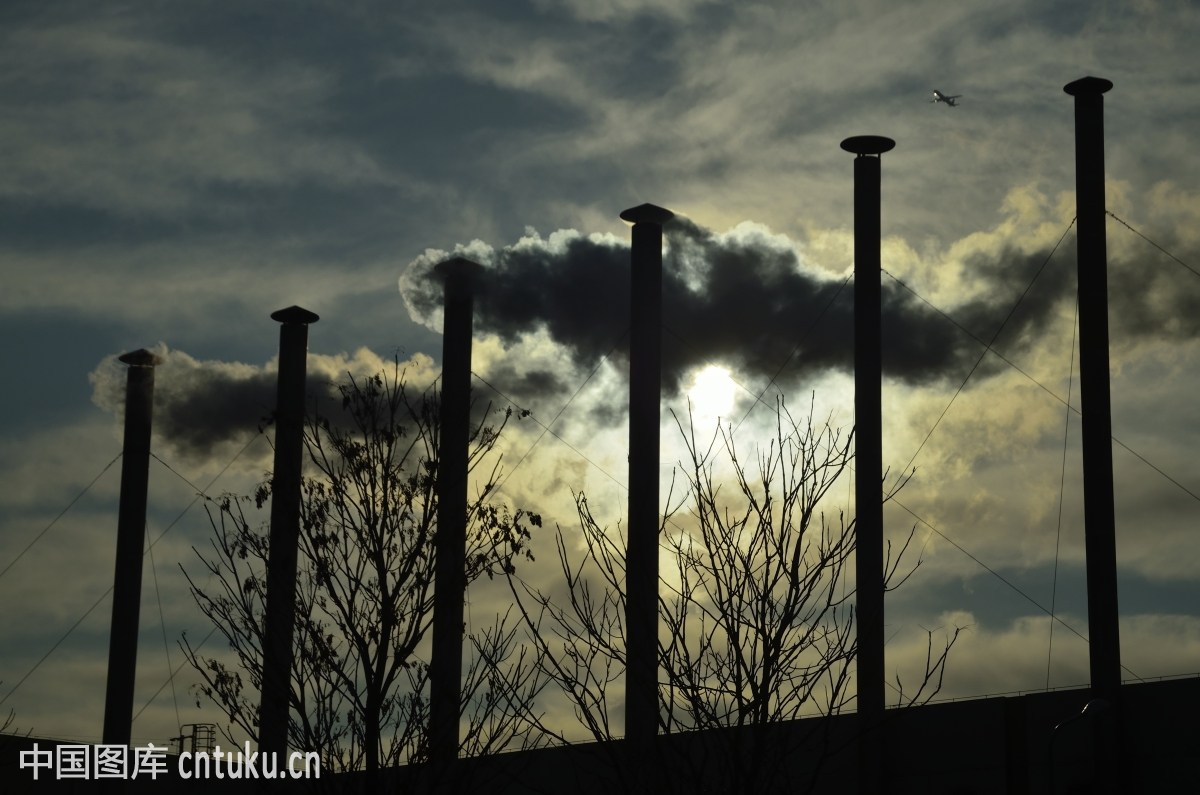dust: (380, 226, 649, 365), (98, 348, 268, 460)
